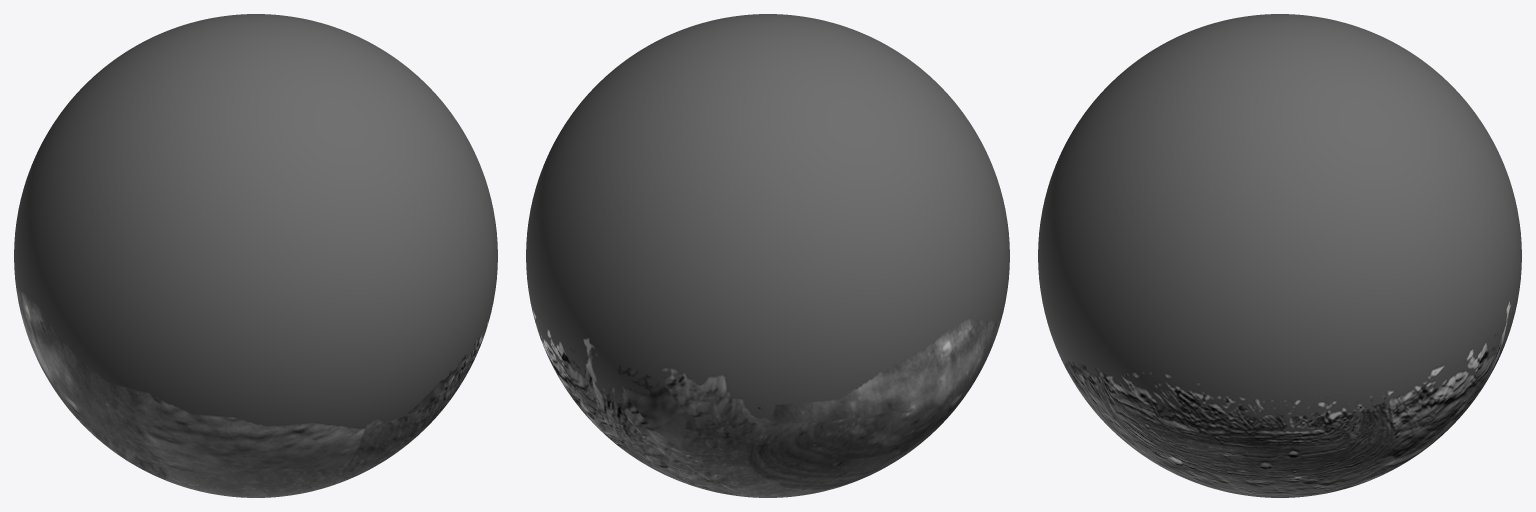
Rendered from miranda.glb.
3 views of the same model, side by side, from view 1: azimuth 30°, elevation 25°; view 2: azimuth 150°, elevation 25°; view 3: azimuth 270°, elevation 25° (orthographic).
Parts seen in each view (by area): view 1: cylindrically_mapped_sphere; view 2: cylindrically_mapped_sphere; view 3: cylindrically_mapped_sphere.
Boxes of the visible parts, x1,y1,x2,y2 form: cylindrically_mapped_sphere: (14,14,497,497); cylindrically_mapped_sphere: (526,14,1009,497); cylindrically_mapped_sphere: (1038,14,1521,497).
Bounding box in the file's own units: 1000 × 1000 × 1000.
1 material, 1 textured.
